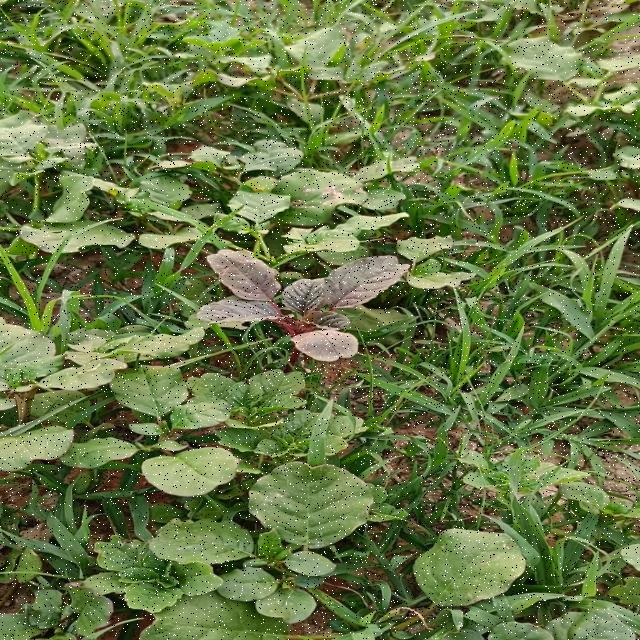plant: (196, 250, 410, 361)
